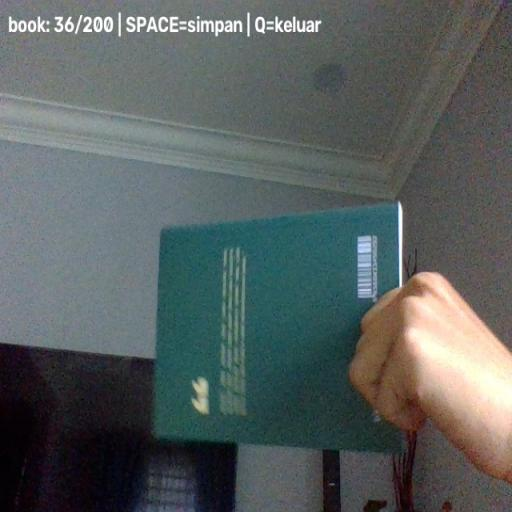Book: (152, 202, 403, 454)
